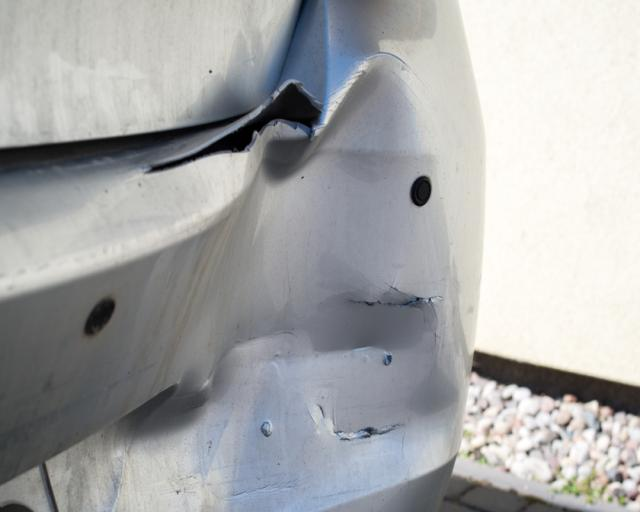crack: (139, 79, 327, 176)
dent: (119, 63, 461, 496)
